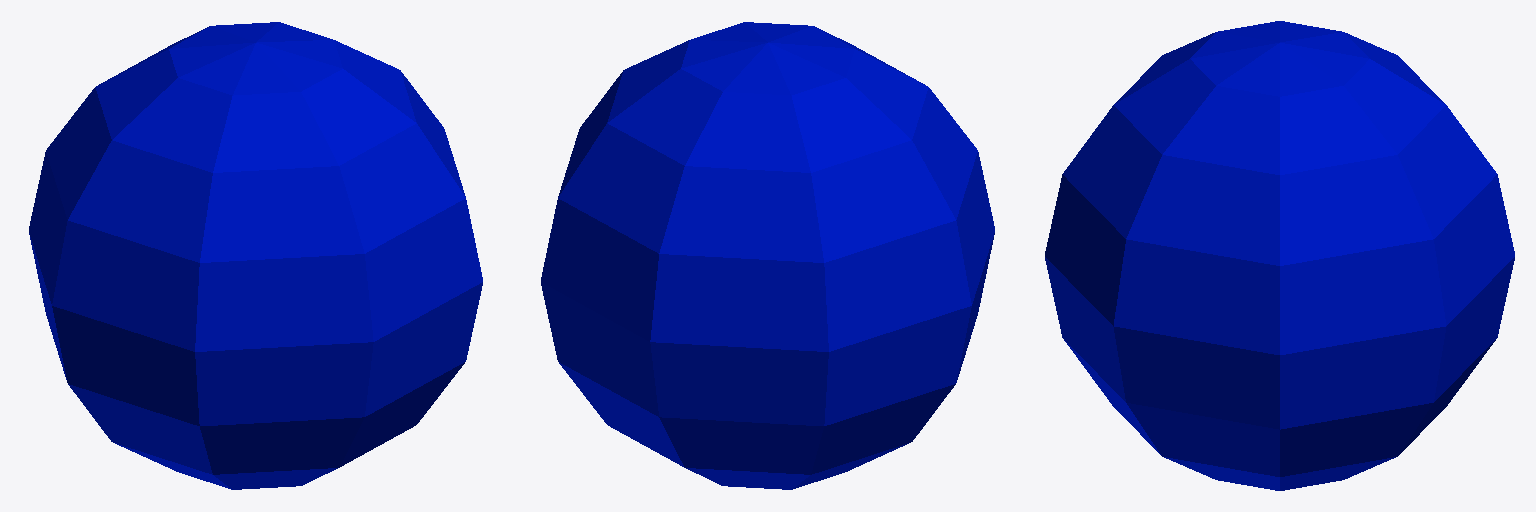
File: ElipNucleo.obj
3 renders of one model, left to right at view 1: azimuth 30°, elevation 25°; view 2: azimuth 150°, elevation 25°; view 3: azimuth 270°, elevation 25°, orthographic.
Parts seen in each view (by area): view 1: Sphere.014_Sphere.019; view 2: Sphere.014_Sphere.019; view 3: Sphere.014_Sphere.019.
Boxes of the visible parts, <box> form: Sphere.014_Sphere.019: <box>29,22,482,489</box>; Sphere.014_Sphere.019: <box>541,22,994,489</box>; Sphere.014_Sphere.019: <box>1045,21,1514,490</box>.
Size of the model in its own units: 0.6599 by 0.6599 by 0.6599.